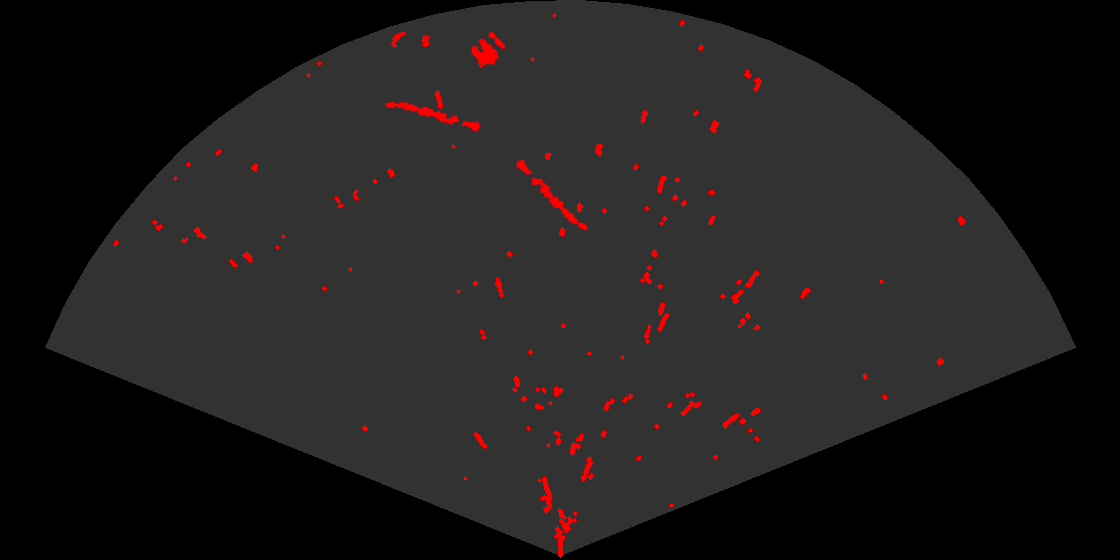ball: (470, 30, 507, 67)
chain: (515, 158, 589, 232), (383, 100, 482, 133)
